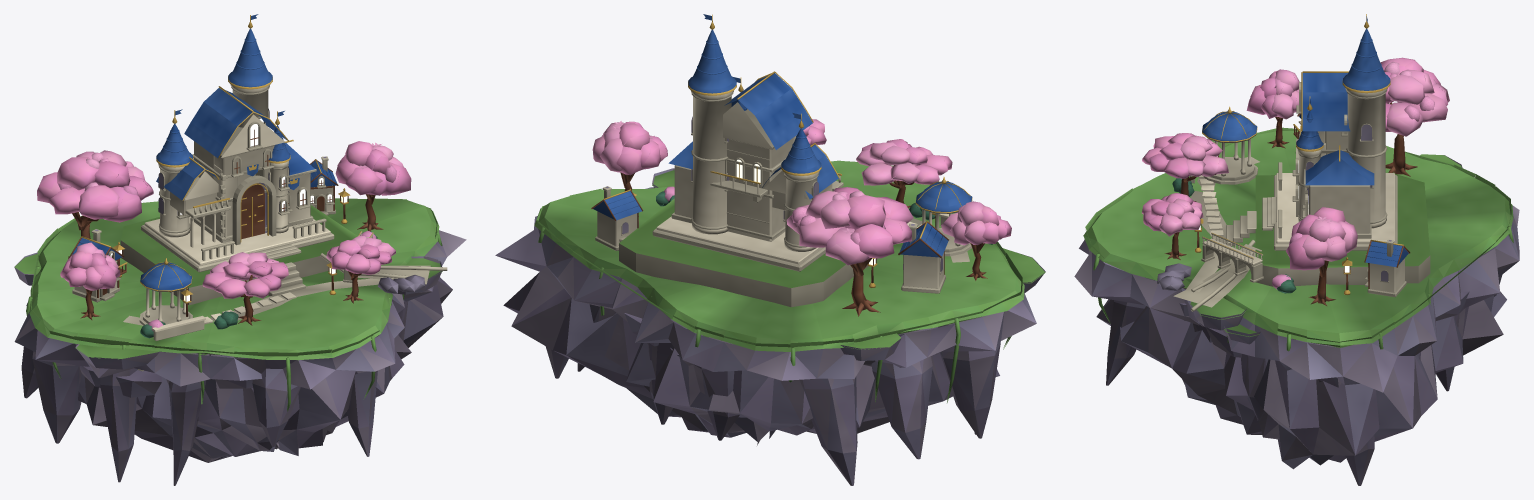
The model's file is royal-island-right-background-v1.glb.
3 renders of one model, left to right at view 1: azimuth 30°, elevation 25°; view 2: azimuth 150°, elevation 25°; view 3: azimuth 270°, elevation 25°, orthographic. The views are drawn at different scales.
Parts seen in each view (by area): view 1: royal-island-right-background-v1; view 2: royal-island-right-background-v1; view 3: royal-island-right-background-v1.
Part boxes in pixels (x1,y1,x2,y2): royal-island-right-background-v1: (14, 14, 466, 485); royal-island-right-background-v1: (495, 14, 1045, 485); royal-island-right-background-v1: (1074, 14, 1519, 485).
Size of the model in its own units: 19.46 by 16.87 by 15.54.
Materials: 10 (10 with a texture image).
